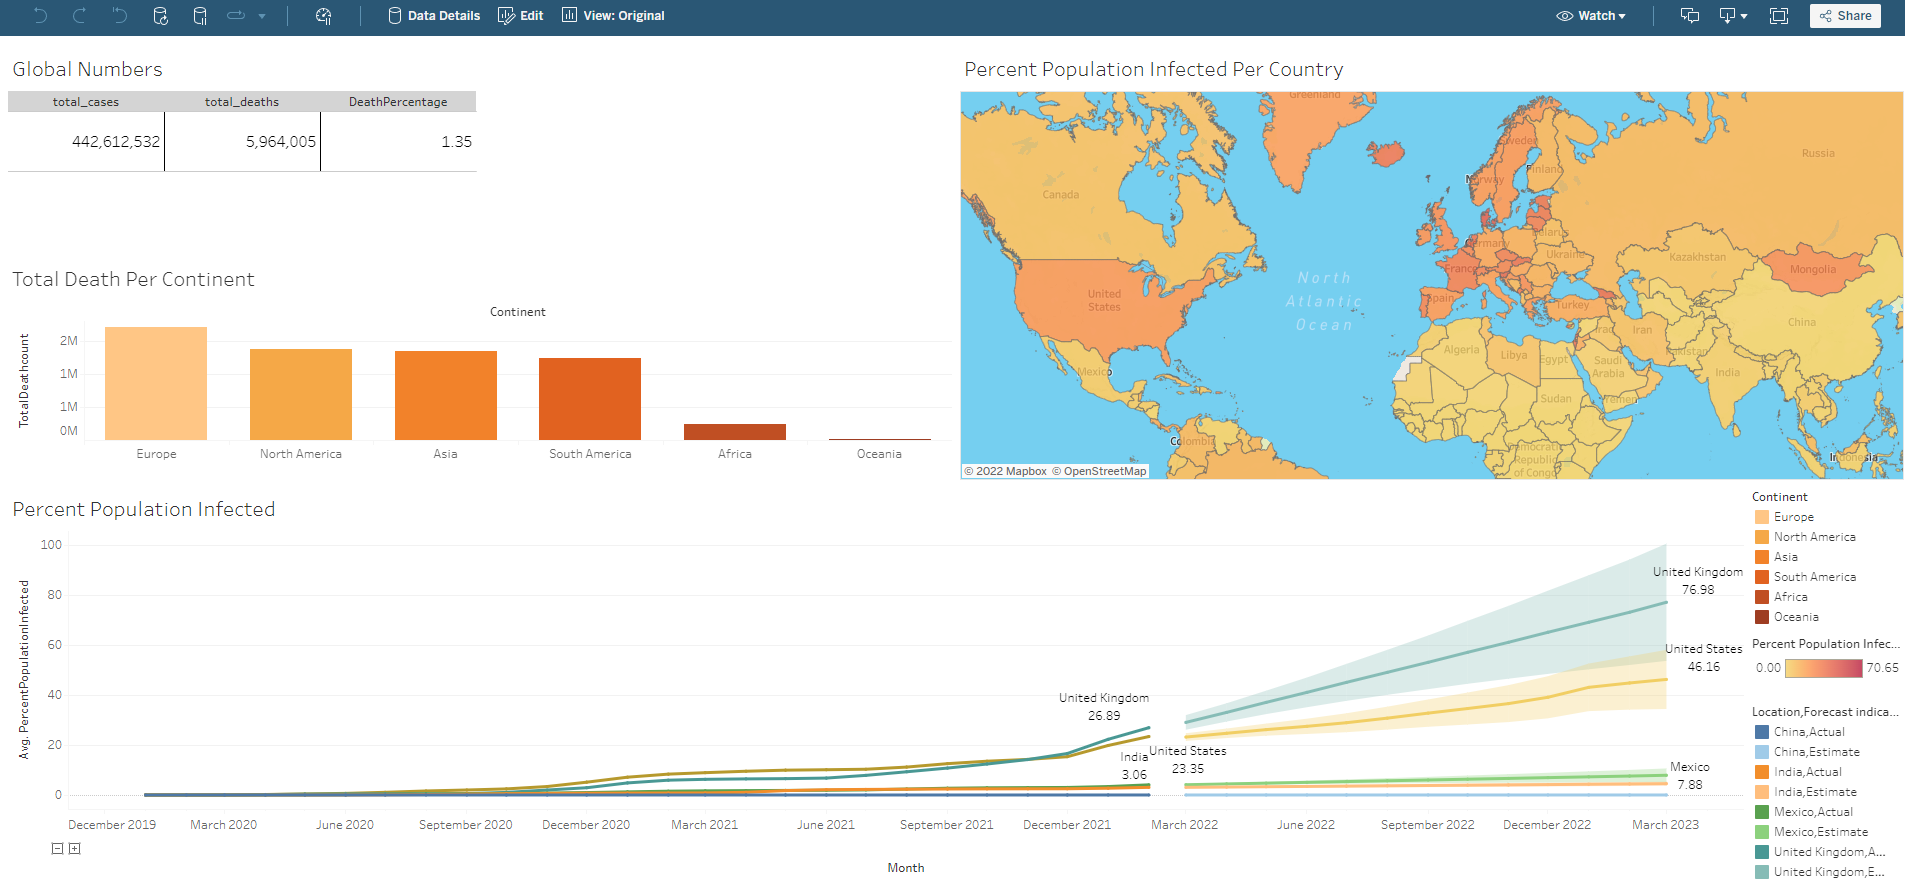

The dashboard page shown, as its layout file describes it:
{"tool":"tableau","page":{"name":"Dashboard 1","canvas":[1000,1000],"units":"permille","ordinal":0},"visuals":[{"type":"worksheet","title":"Sheet 1","mark":"Automatic","box":[4.6,8.8,495.4,245.6]},{"type":"worksheet","title":"Sheet 3","mark":"Automatic","box":[500,8.8,495.4,514.4]},{"type":"worksheet","title":"Sheet 2","mark":"Automatic","rows":["TotalDeathcount"],"cols":["location"],"box":[4.6,254.4,495.4,268.8]},{"type":"worksheet","title":"Sheet 4","mark":"Automatic","rows":["PercentPopulationInfected"],"cols":["date"],"box":[4.6,523.2,899.4,467.9]},{"type":"legend","title":"Sheet 2","param":"[federated.1mca0xa032xum91e0g1km0qz7cel].[none:location:nk]","box":[904,523.2,91.5,161.5]},{"type":"legend","title":"Sheet 3","param":"[federated.0r5ga0r1hnp2cm1ejeyq50e0vtsd].[sum:PercentPopulationInfected:qk]","box":[904,684.7,91.5,71.9]},{"type":"legend","title":"Sheet 4","param":"[federated.0r6756d1sxu86w0zkp3ob0ymi8xz].[none:Location:nk]\n[federated.0r6756d1s","box":[904,756.6,91.5,234.5]}]}

Visuals, with their boxes on the dashboard's canvas, which has no fixed pixel size, in thousandths of its width and height (x1, y1, x2, y2). These are canvas units, not pixel positions in the 1905x886 screenshot, which may show the page scaled, cropped or inside an application window:
"Sheet 1" worksheet: l=5, t=9, r=500, b=254
"Sheet 3" worksheet: l=500, t=9, r=995, b=523
"Sheet 2" worksheet: l=5, t=254, r=500, b=523
"Sheet 4" worksheet: l=5, t=523, r=904, b=991
"Sheet 2" legend: l=904, t=523, r=996, b=685
"Sheet 3" legend: l=904, t=685, r=996, b=757
"Sheet 4" legend: l=904, t=757, r=996, b=991
